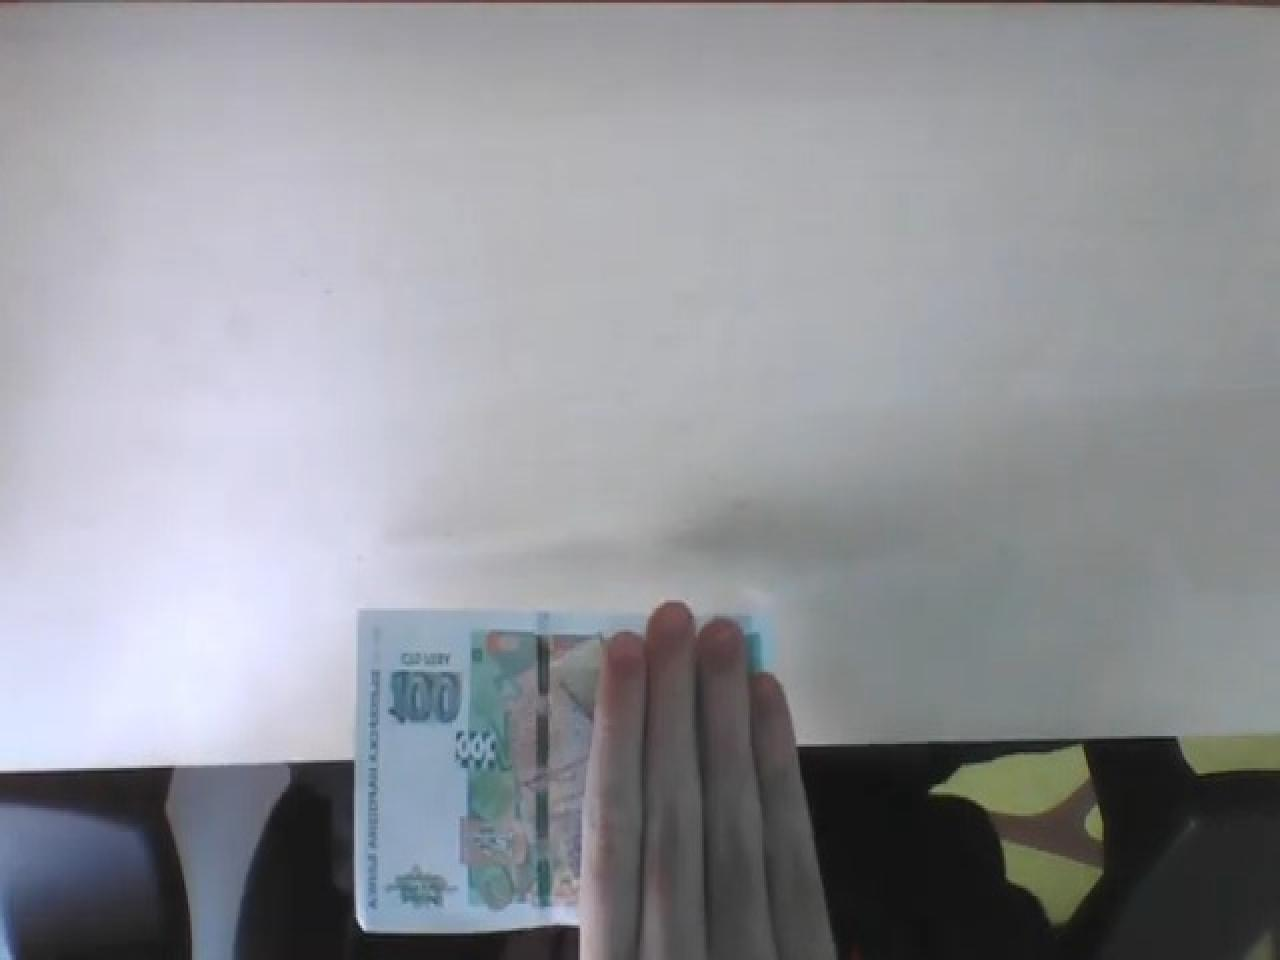100leva: (384, 670, 462, 731)
